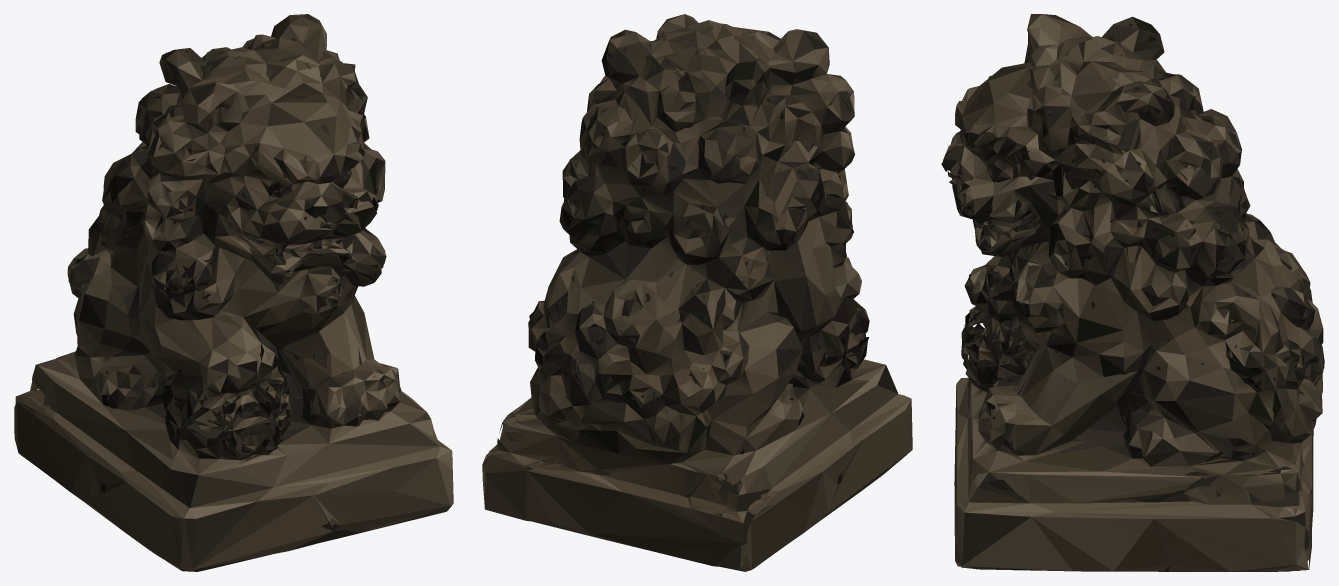
Rendered from lion.glb.
The picture shows the model from 3 angles, left to right: view 1: azimuth 30°, elevation 25°; view 2: azimuth 150°, elevation 25°; view 3: azimuth 270°, elevation 25°; orthographic projection. The views are drawn at different scales.
Parts seen in each view (by area): view 1: lion; view 2: lion; view 3: lion.
Boxes of the visible parts, box(x1,y1,x2,y2) form: lion: box(14, 14, 453, 571); lion: box(482, 14, 912, 571); lion: box(941, 14, 1324, 571).
Bounding box in the file's own units: 0.4071 × 0.6219 × 0.4722.
